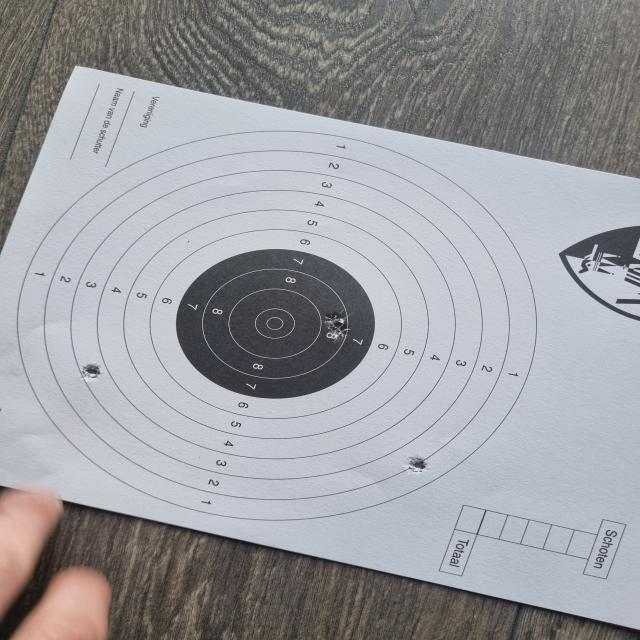3: (408, 457, 428, 472)
4: (81, 364, 101, 378)
9: (326, 326, 350, 342), (324, 310, 346, 326)
Black Contour: (176, 247, 378, 398)
Target: (24, 128, 540, 520)
